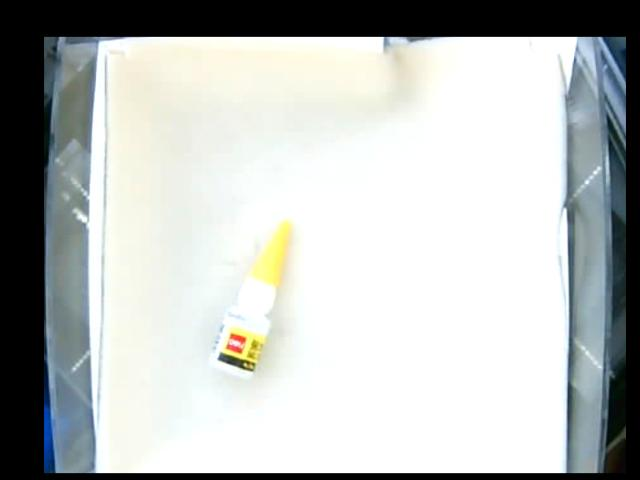Bottle: (212, 220, 293, 379)
